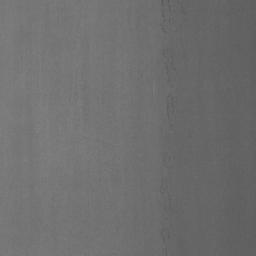Silk spot: (160, 10, 174, 33), (167, 95, 176, 120), (161, 0, 171, 12)
